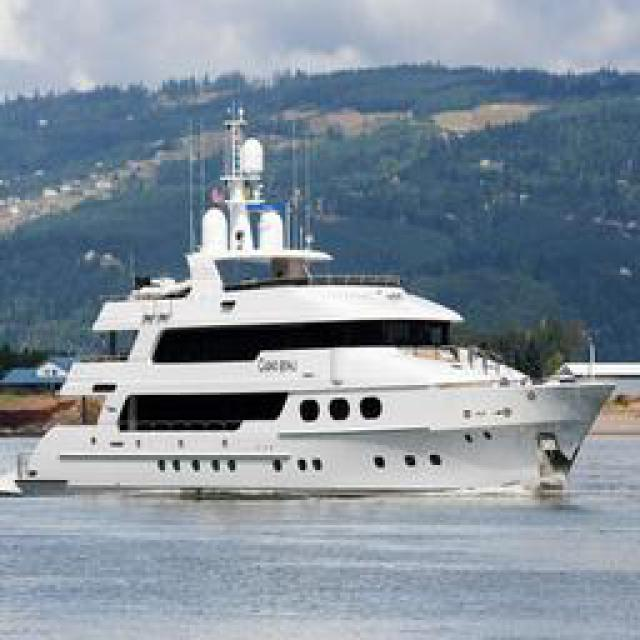Ship: (18, 259, 616, 504)
